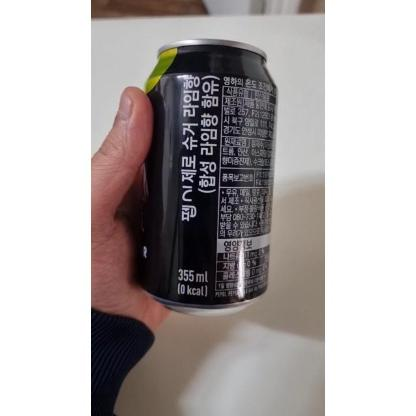Can: (140, 42, 280, 314)
